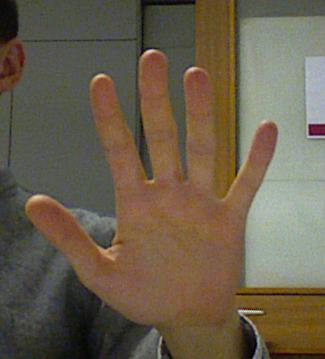down: (16, 42, 281, 328)
